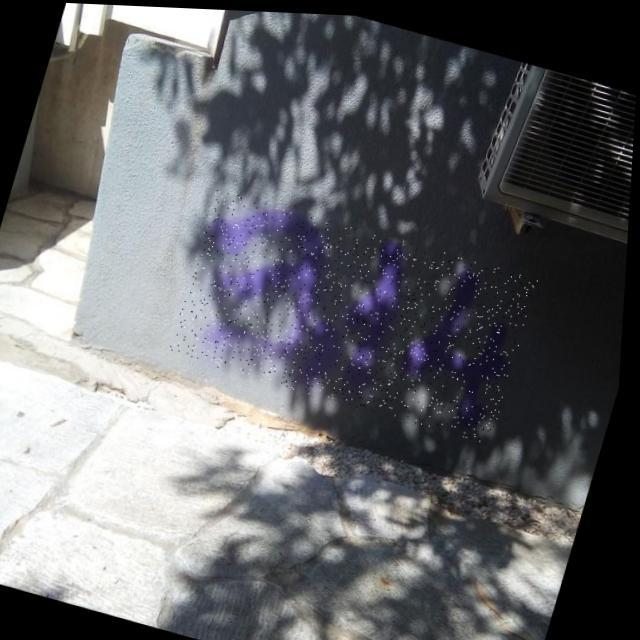-: (168, 185, 544, 441)
